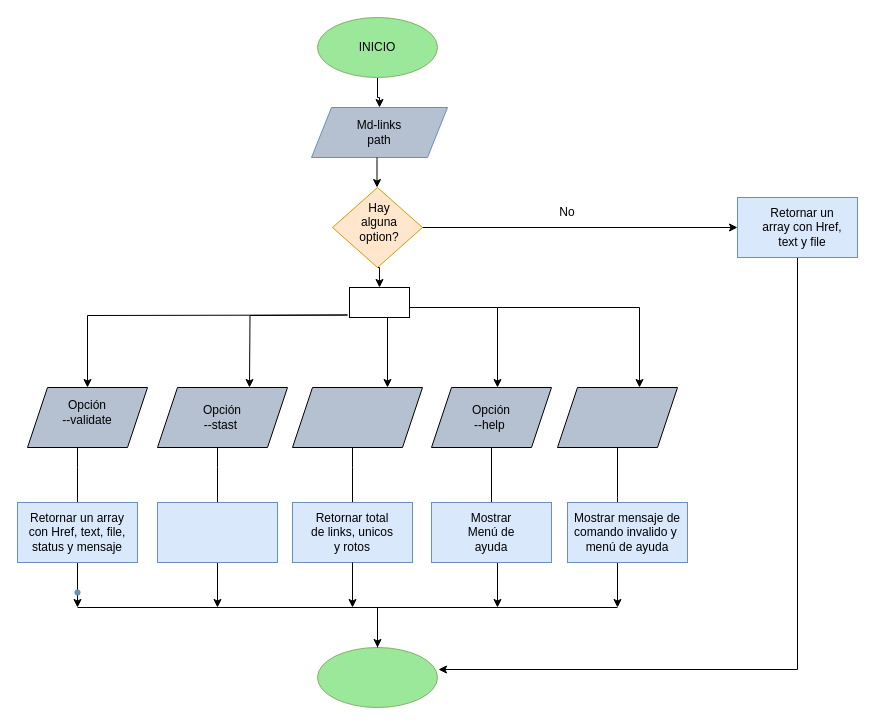
The diagram is 875 pixels wide and 725 high, and some of its shapes have lost their labels. Here are the shapes that lost their labels. From the top down, the centre of each, then its label:
At point (379, 302): "SI".
At point (357, 417): "Opción --validate --stast".
At point (617, 417): "Otra opción".
At point (217, 532): "Retornar total de links y links unicos".
At point (377, 677): "FIN".
